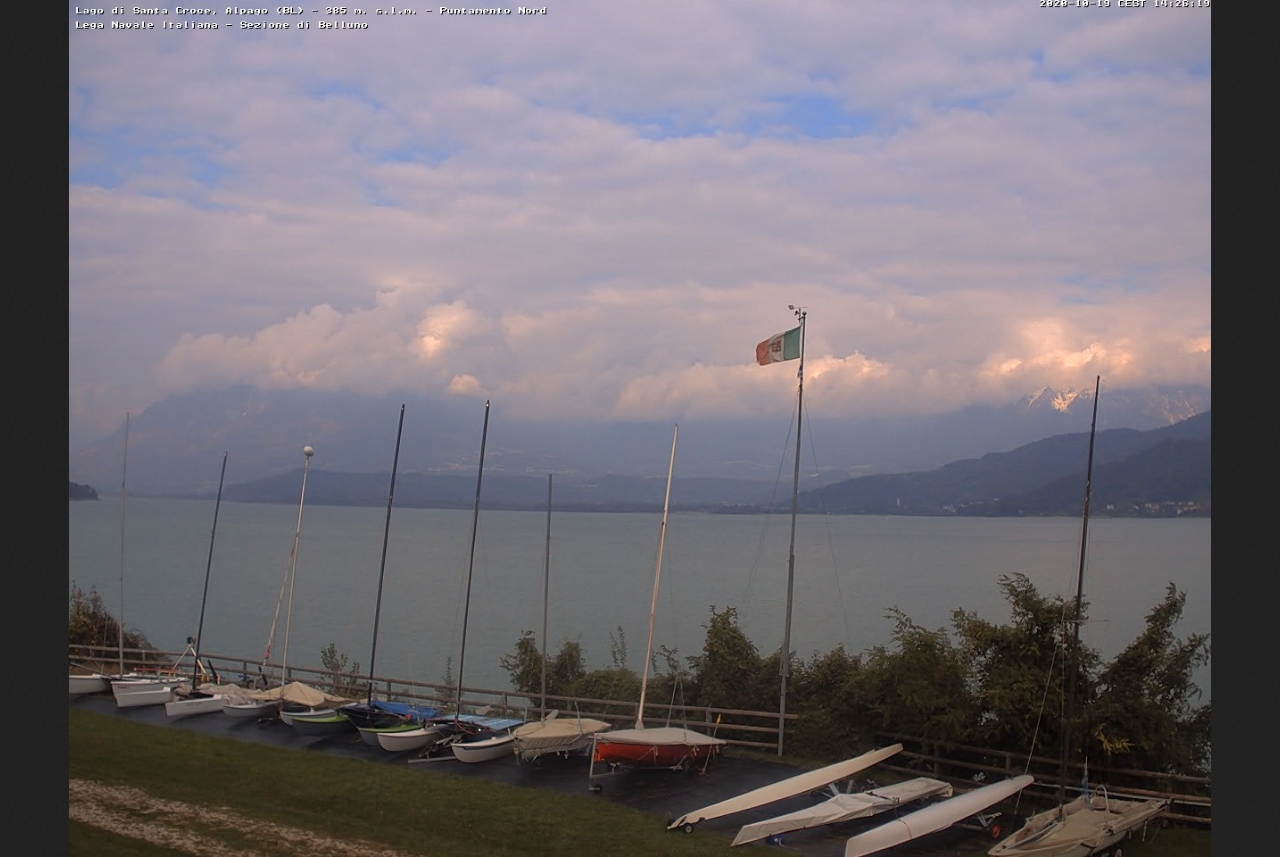yes: (755, 323, 807, 365)
